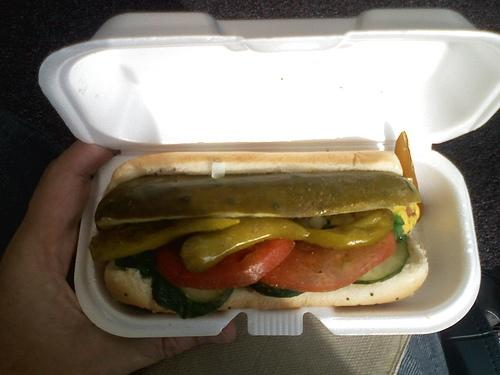cucumber: (152, 271, 234, 319), (352, 240, 410, 284), (114, 251, 158, 278), (246, 281, 306, 298)
tomato: (262, 231, 394, 292), (159, 236, 295, 289)
